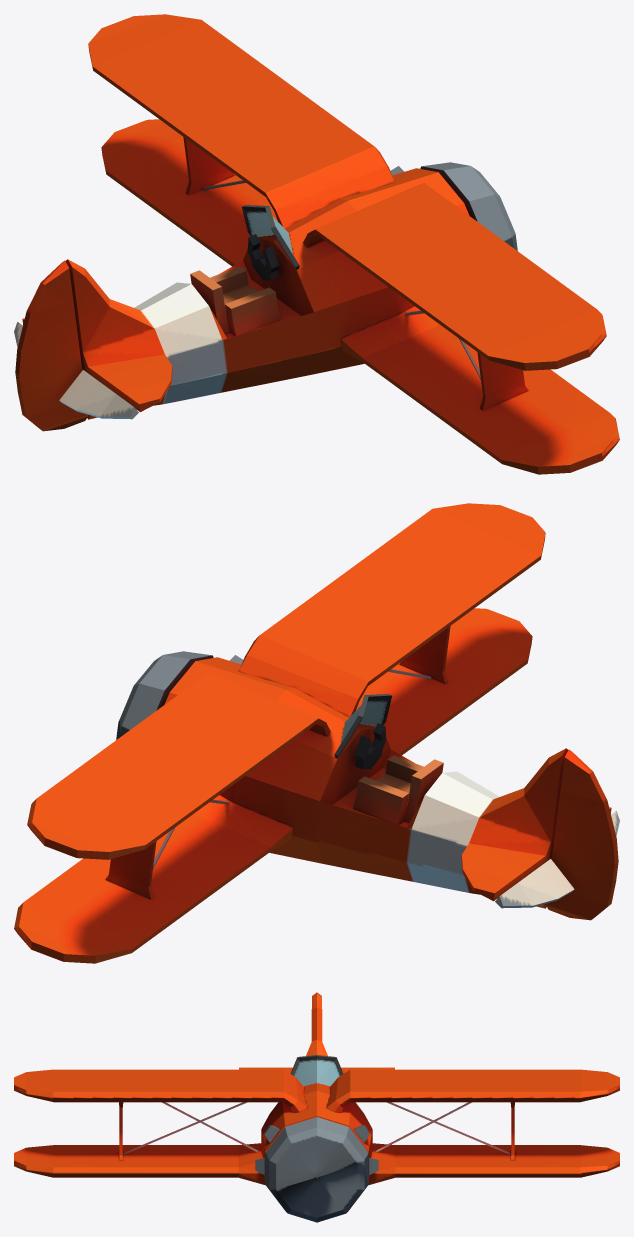
The model's file is airplane_without_wheels_screw.glb.
The picture shows the model from 3 angles, top to bottom: view 1: azimuth 30°, elevation 25°; view 2: azimuth 150°, elevation 25°; view 3: azimuth 270°, elevation 25°; orthographic projection. The views are drawn at different scales.
Parts seen in each view (by area): view 1: PUSHILIN_Plane_Circle.000; view 2: PUSHILIN_Plane_Circle.000; view 3: PUSHILIN_Plane_Circle.000.
Part boxes in pixels (x1=…): PUSHILIN_Plane_Circle.000: x1=14, y1=14, x2=619, y2=474; PUSHILIN_Plane_Circle.000: x1=14, y1=503, x2=619, y2=963; PUSHILIN_Plane_Circle.000: x1=14, y1=992, x2=619, y2=1222.
Size of the model in its own units: 2.29 by 0.836 by 3.78.
1 material, 1 textured.
